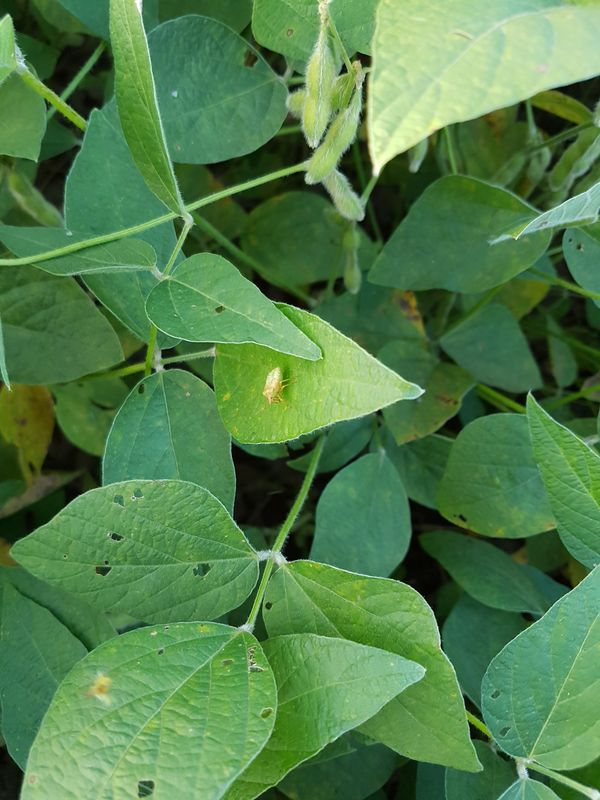Euschistus_heros_ninfa: (250, 359, 296, 410)
